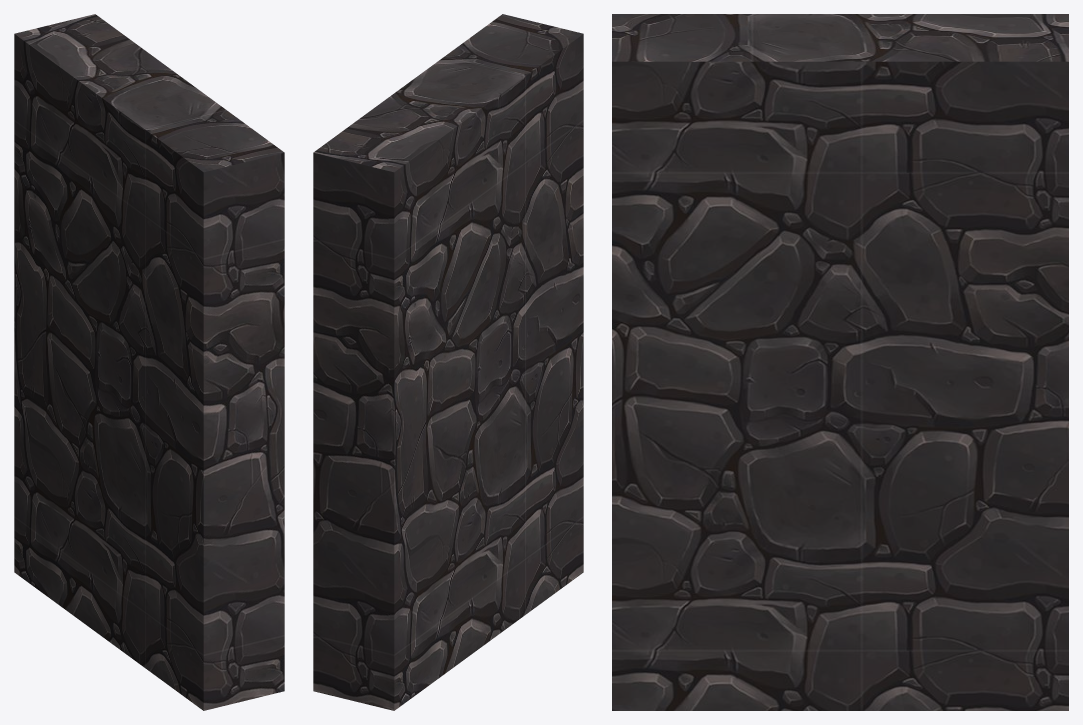
Rendered from Well_01.FBX.
3 views of the same model, side by side, from view 1: azimuth 30°, elevation 25°; view 2: azimuth 150°, elevation 25°; view 3: azimuth 270°, elevation 25° (orthographic). The views are drawn at different scales.
Visible parts, largest first — view 1: Well_01; view 2: Well_01; view 3: Well_01.
Boxes of the visible parts, x1,y1,x2,y2 form: Well_01: [14, 14, 284, 710]; Well_01: [313, 14, 583, 710]; Well_01: [612, 14, 1068, 710].
Size of the model in its own units: 0.6845 by 4.35 by 2.77.
